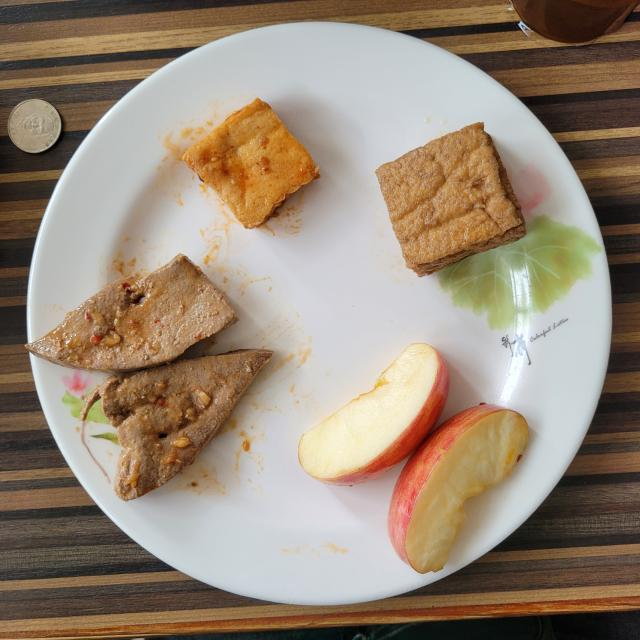apple -sliced-: (299, 344, 529, 572)
coin: (8, 99, 61, 154)
creamy tofu: (182, 99, 319, 229)
egg tofu: (376, 122, 525, 275)
pig liver: (26, 255, 271, 500)
